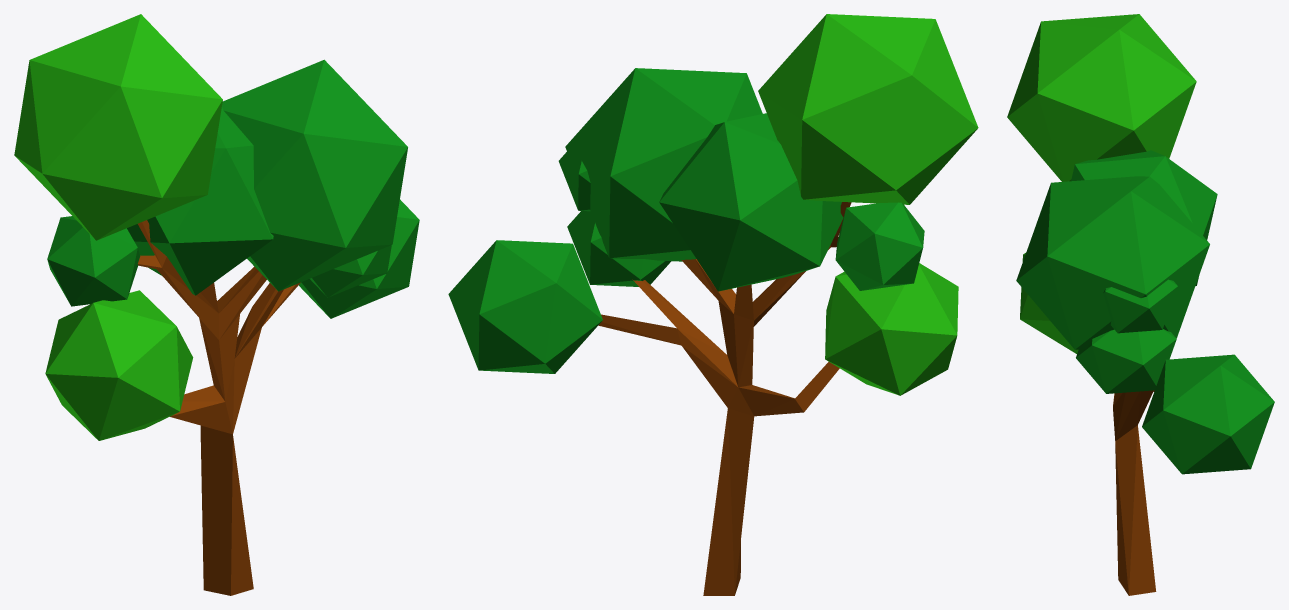
The model's file is Tree.fbx.
3 views of the same model, side by side, from view 1: azimuth 30°, elevation 25°; view 2: azimuth 150°, elevation 25°; view 3: azimuth 270°, elevation 25° (orthographic). The views are drawn at different scales.
Parts seen in each view (by area): view 1: Icosphere.001; view 2: Icosphere.001; view 3: Icosphere.001.
Part boxes in pixels (box(x1,y1,x2,y2)): Icosphere.001: box(14, 14, 419, 595); Icosphere.001: box(448, 14, 978, 595); Icosphere.001: box(1007, 14, 1274, 595).
Size of the model in its own units: 563 by 725 by 340.
